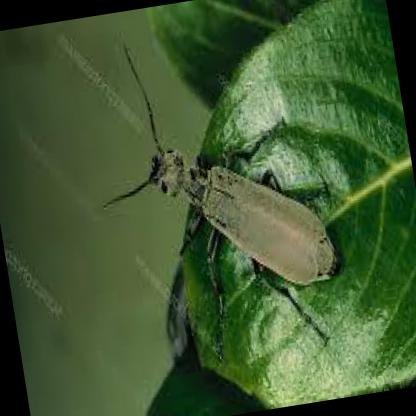blister beetle: (105, 47, 340, 335)
